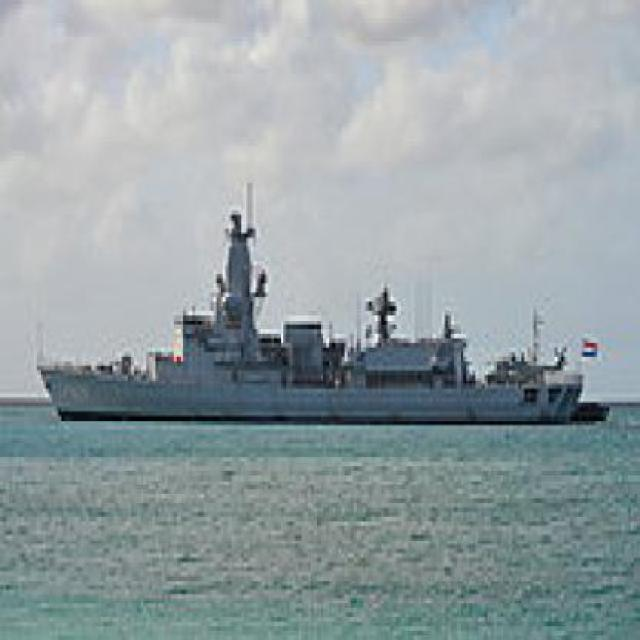warship2: (37, 193, 593, 440)
